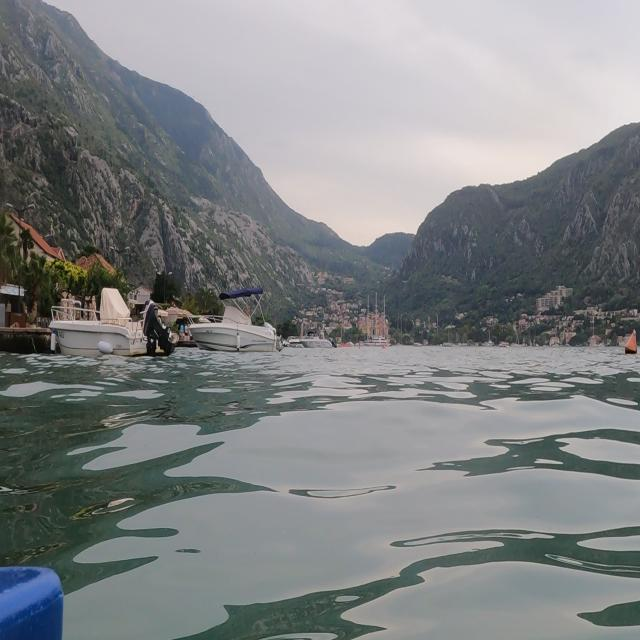boat: (49, 282, 192, 372), (186, 270, 288, 373), (286, 310, 342, 363), (355, 286, 396, 358)
buoy: (620, 324, 640, 366)
